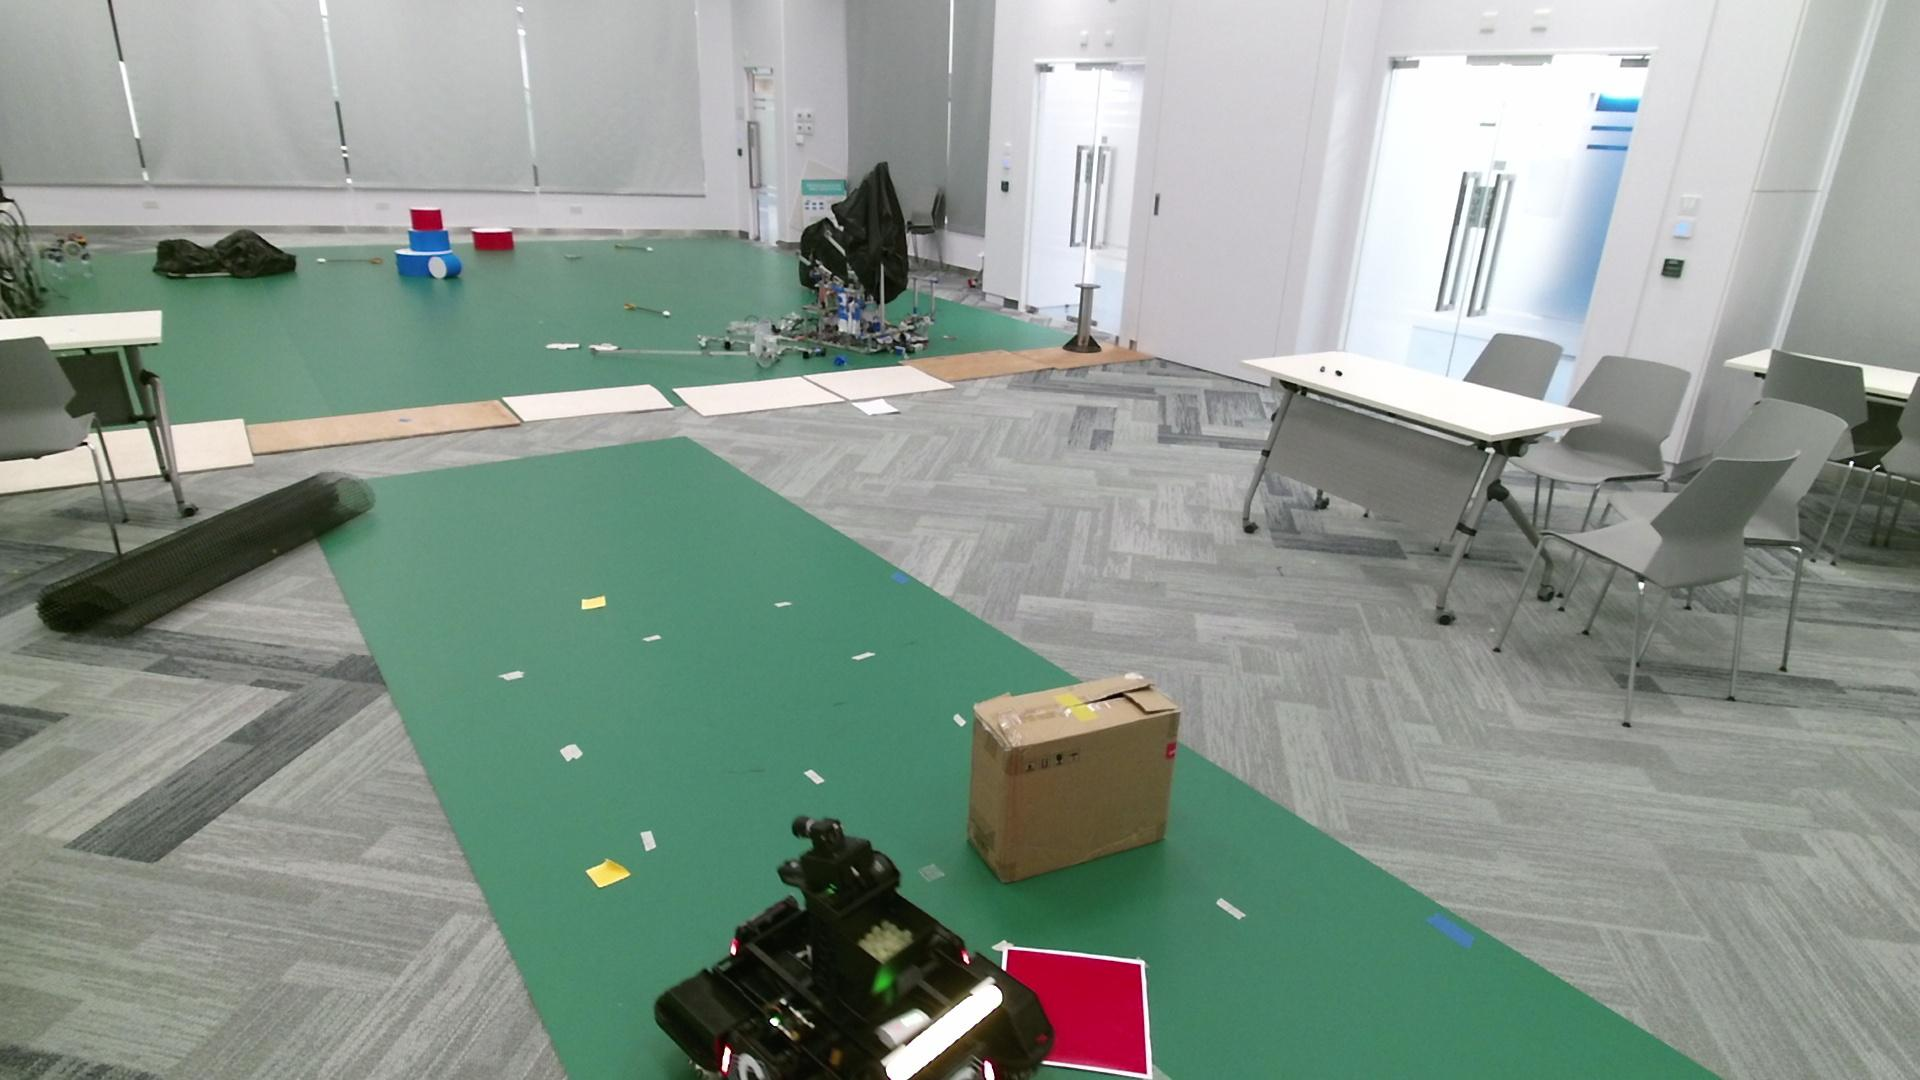robot: (654, 815, 1055, 1080)
